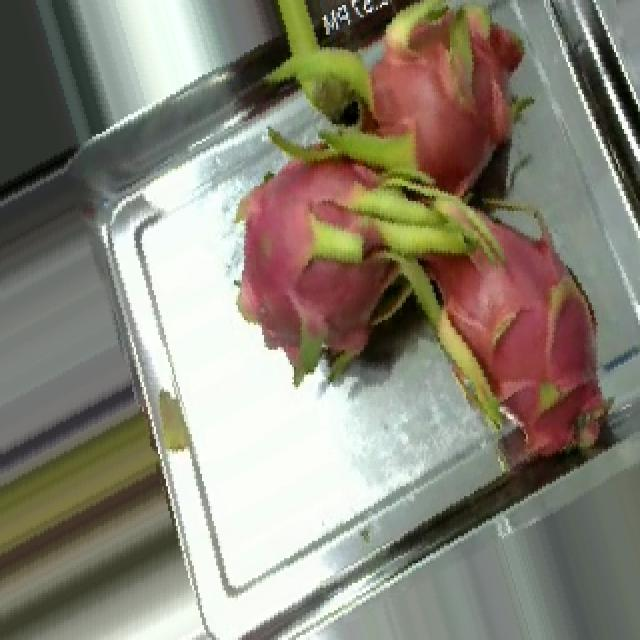Fruit: (238, 221, 432, 392)
